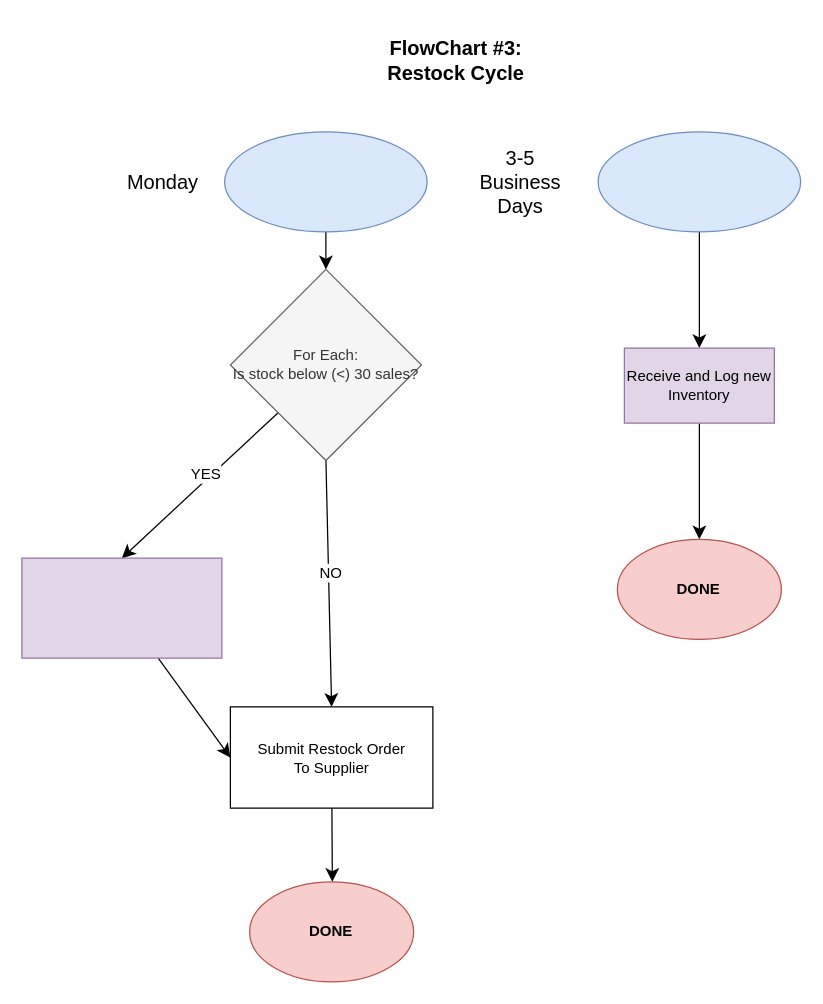
Image size: 823x1004. Some labels were removed from this diagram. Each missing label, with the centre of its shape:
Add To Weekly Restock: pixel 121 607
Delivery Arrival: pixel 699 181
Review Inventory Levels: pixel 325 181
